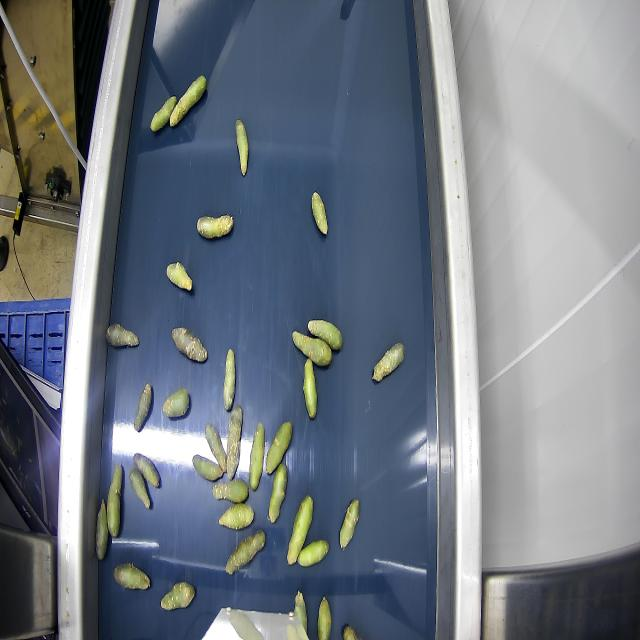Baby Potato: (170, 74, 209, 131), (286, 495, 314, 566), (224, 530, 266, 574), (106, 458, 126, 538), (307, 314, 349, 350), (370, 343, 406, 385), (266, 419, 293, 473), (171, 327, 207, 362), (128, 472, 158, 514), (293, 334, 331, 366), (158, 581, 196, 613), (268, 462, 288, 522), (226, 403, 242, 478), (131, 453, 164, 489), (205, 421, 227, 473), (338, 497, 359, 550), (308, 190, 331, 238), (249, 423, 265, 490), (114, 561, 150, 590), (218, 501, 255, 529), (196, 212, 234, 238), (296, 539, 330, 567), (150, 96, 176, 132), (213, 478, 249, 503), (134, 382, 152, 431), (303, 358, 317, 420), (162, 388, 190, 418), (165, 260, 193, 290), (106, 322, 138, 348), (223, 346, 235, 412), (193, 456, 223, 482), (95, 502, 108, 560), (236, 119, 248, 174), (317, 596, 331, 640), (295, 587, 309, 630), (343, 621, 359, 640)
